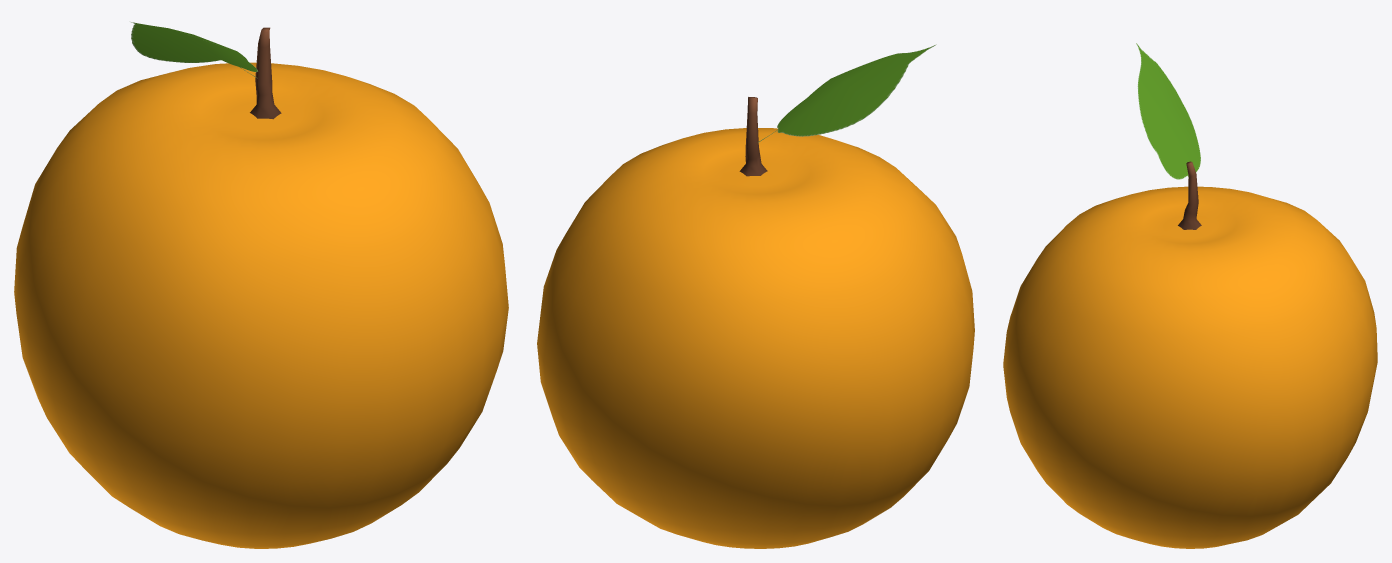
The model's file is Orange_Whole.fbx.
The picture shows the model from 3 angles, left to right: view 1: azimuth 30°, elevation 25°; view 2: azimuth 150°, elevation 25°; view 3: azimuth 270°, elevation 25°; orthographic projection. The views are drawn at different scales.
Visible parts, largest first — view 1: Sphere.014; view 2: Sphere.014; view 3: Sphere.014.
Boxes of the visible parts, box(x1,y1,x2,y2) form: Sphere.014: box(14, 22, 508, 548); Sphere.014: box(537, 44, 974, 548); Sphere.014: box(1003, 43, 1377, 548).
Bounding box in the file's own units: 90.35 × 118 × 90.88.
